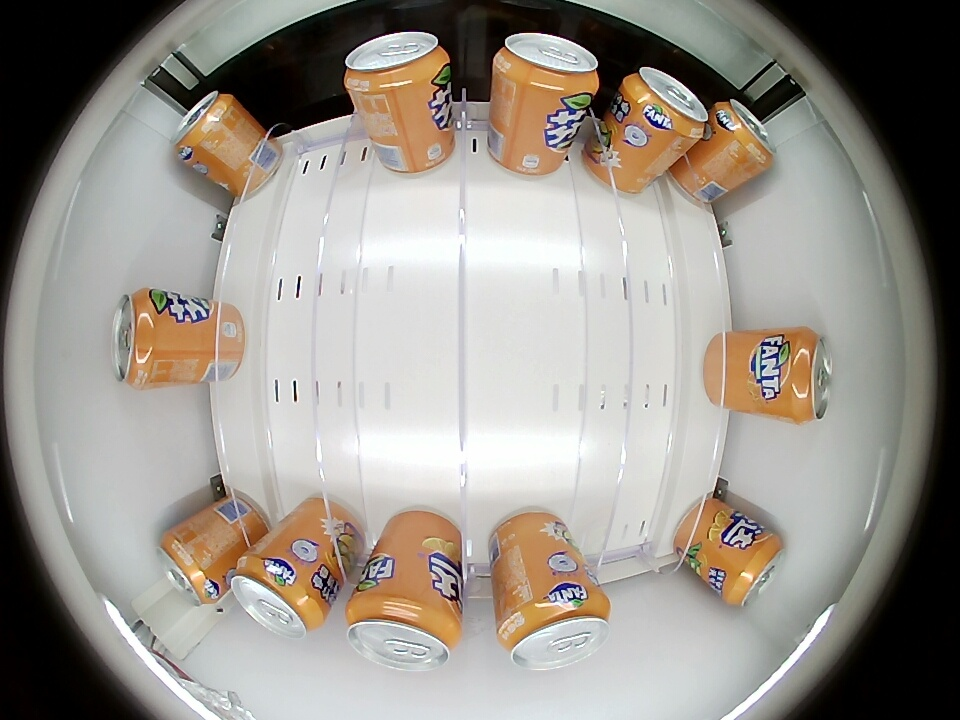fenda: (345, 590, 462, 672), (498, 590, 612, 670), (230, 555, 327, 640), (494, 33, 600, 104), (344, 32, 450, 101), (622, 67, 707, 141), (111, 289, 169, 389), (158, 526, 222, 607), (779, 330, 832, 425), (712, 99, 775, 177), (723, 530, 786, 607), (173, 91, 237, 165)
